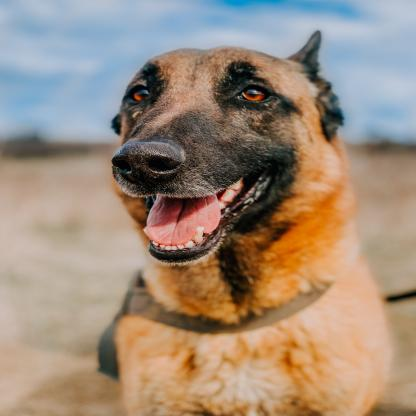dog: (90, 30, 391, 416)
